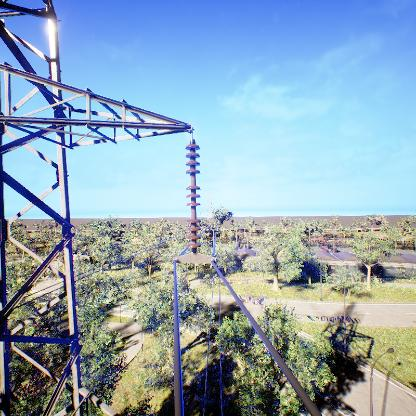insulator: (183, 141, 202, 252)
